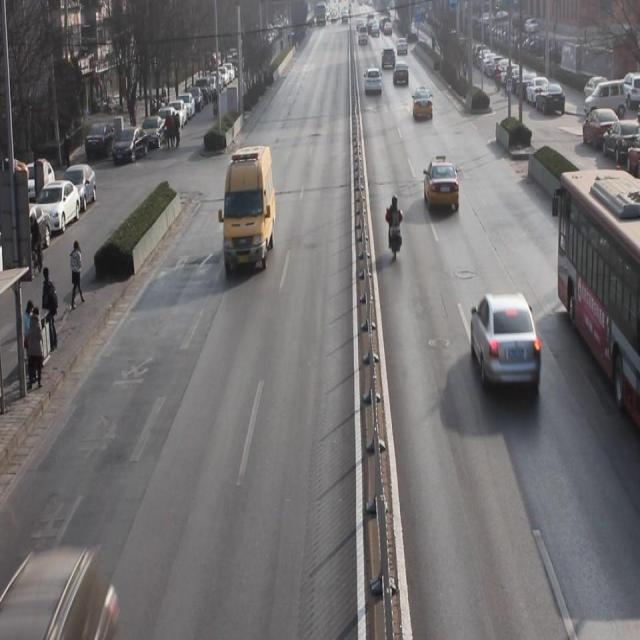car: (1, 546, 118, 640), (471, 294, 543, 402), (423, 159, 462, 217), (412, 90, 434, 122), (364, 67, 382, 99), (392, 60, 411, 89), (382, 46, 396, 74)
truck: (222, 149, 278, 286)
van: (554, 170, 640, 419)
